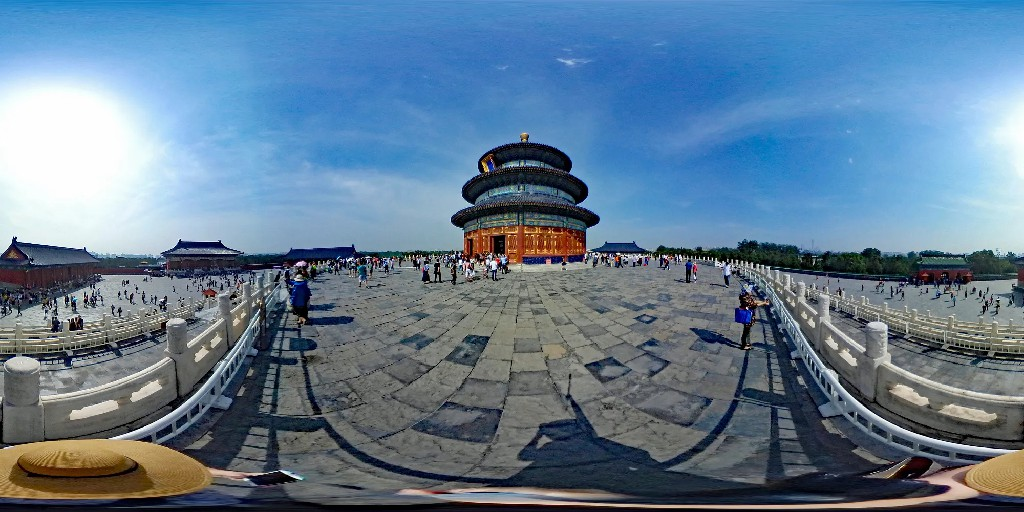Heaven: (450, 132, 603, 264)
